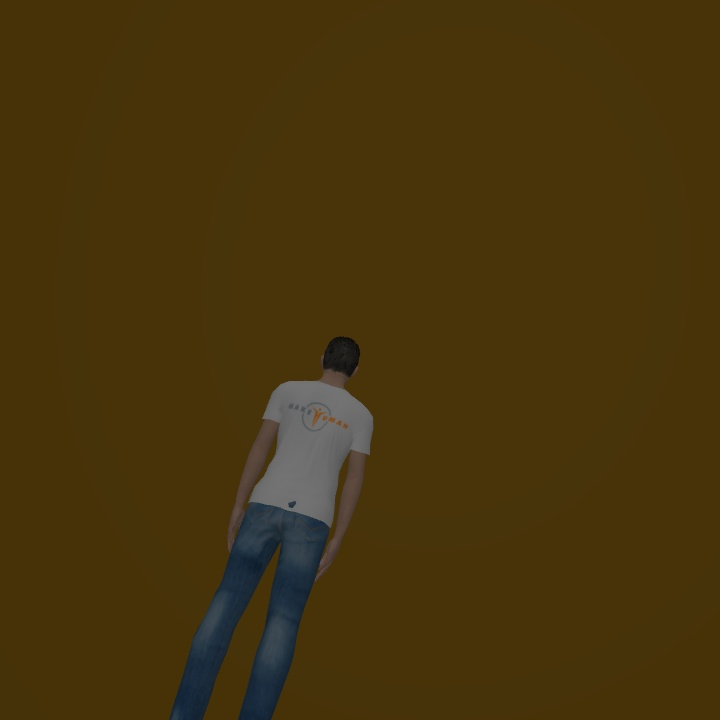victim: (172, 338, 373, 712)
